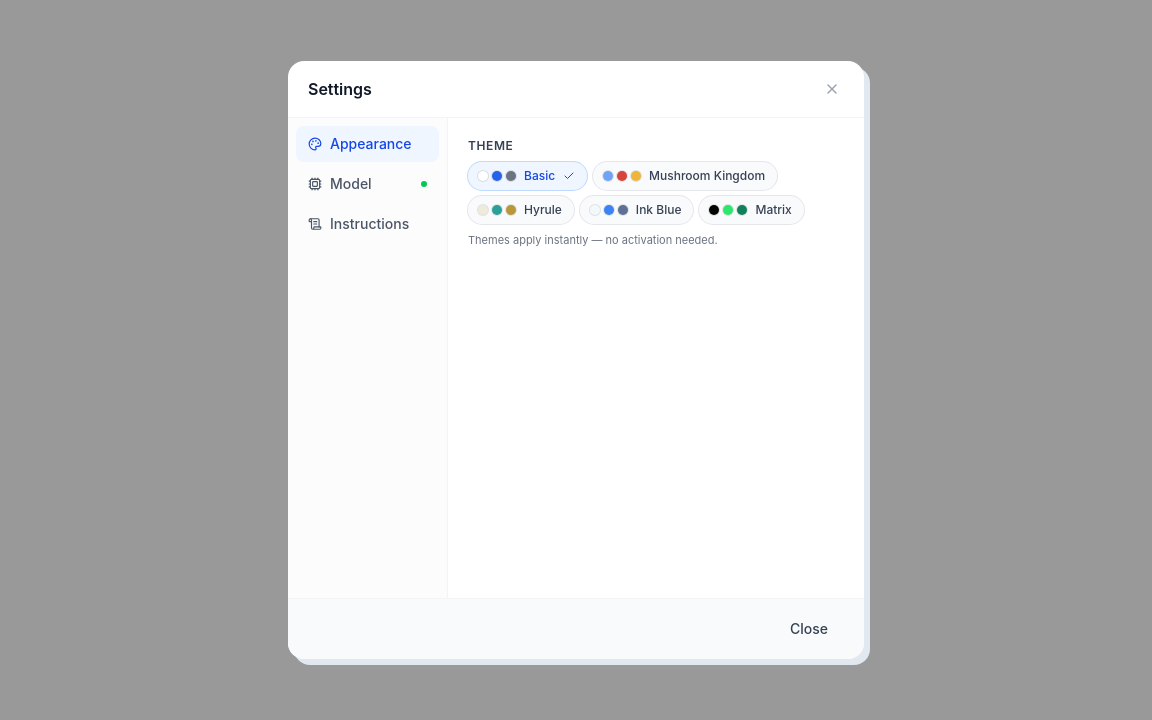
Test case: SettingsModal – two-tab layout › shows the numbered provider/model flow and Activate on the Model tab
Expected: the text "Theme" is shown, [468, 138, 514, 153]
Click the button "Model".
click(368, 184)  # box [296, 166, 439, 202]
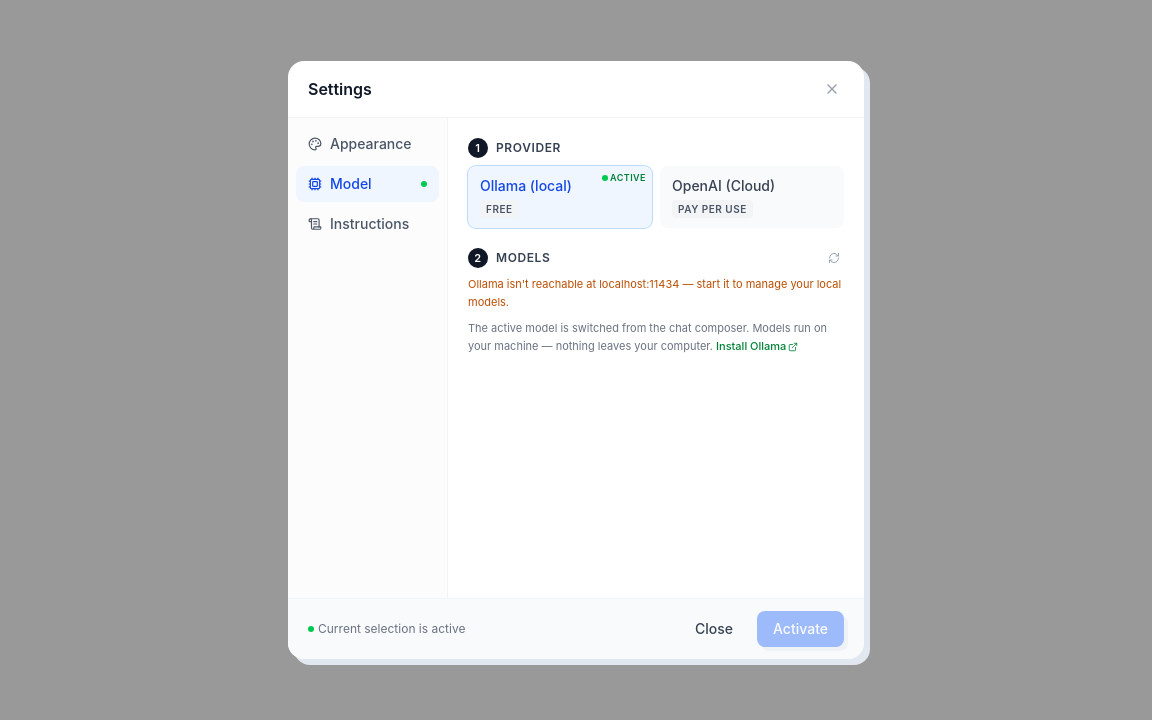
Now the text "Ollama (local)" is shown, box [480, 177, 572, 194]
Now the text "OpenAI (Cloud)" is shown, box [672, 177, 775, 194]
Now the button "Activate" is shown, box [757, 611, 844, 647]
